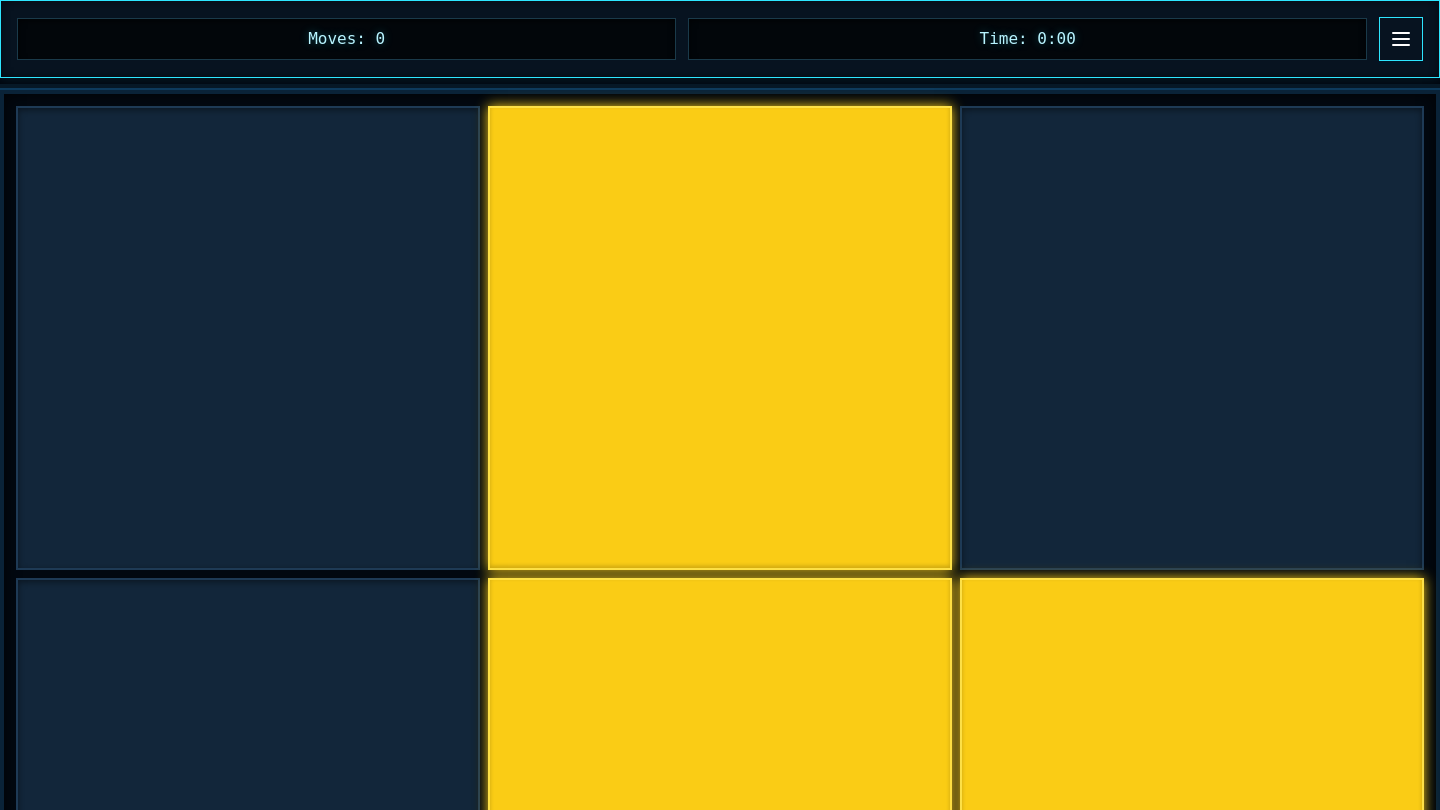
Scenario: GameScreen › lists the required menu entries
This screenshot has width=1440, height=810.
What coordinates should you click on to do the following:
click the button named "Open game menu"
I would click on:
 (1401, 39)
Its box is [1379, 17, 1423, 61].
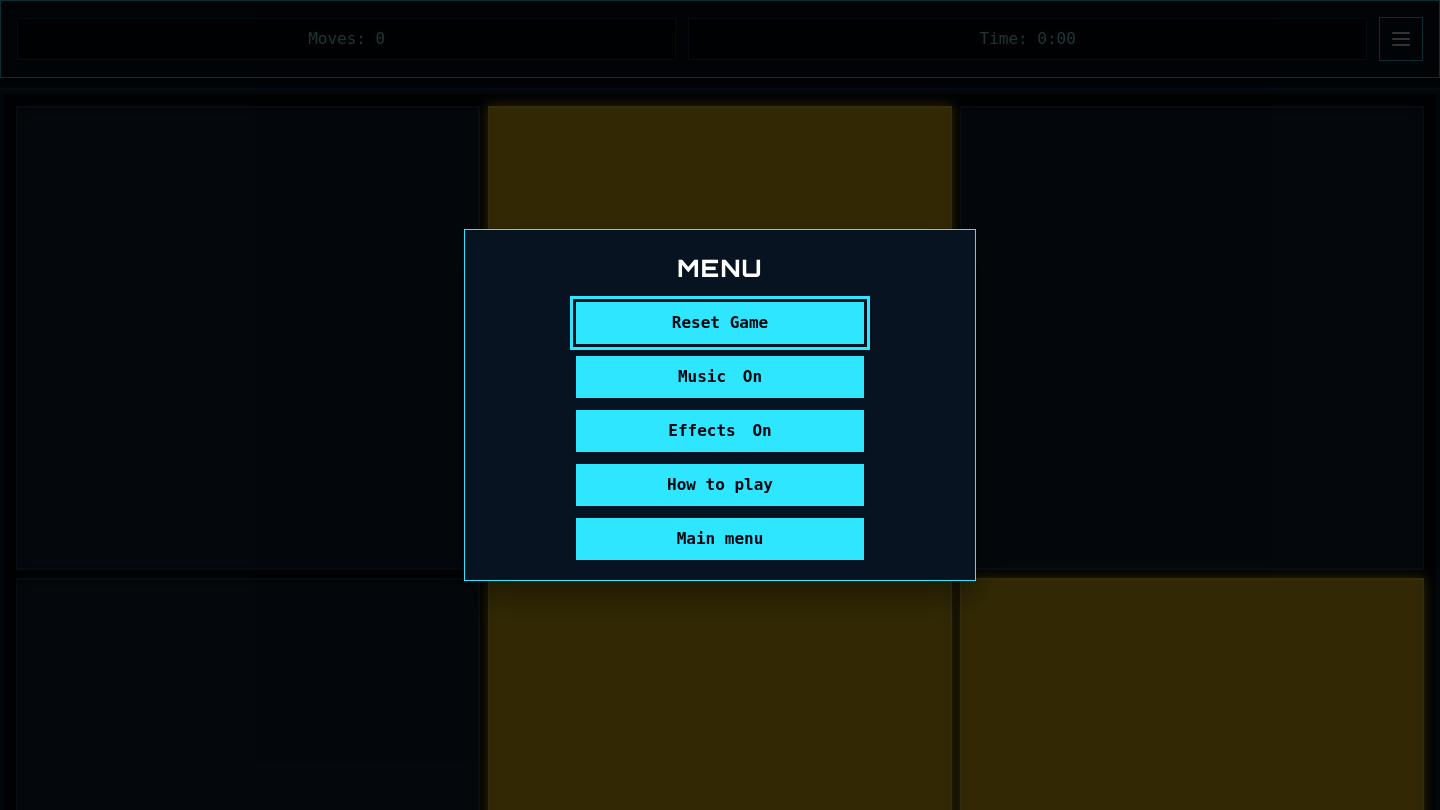
Expected: the button "Reset Game" is shown, [576, 302, 864, 344]
Expected: the button "Music On" is shown, [576, 356, 864, 398]
Expected: the button "Effects On" is shown, [576, 410, 864, 452]
